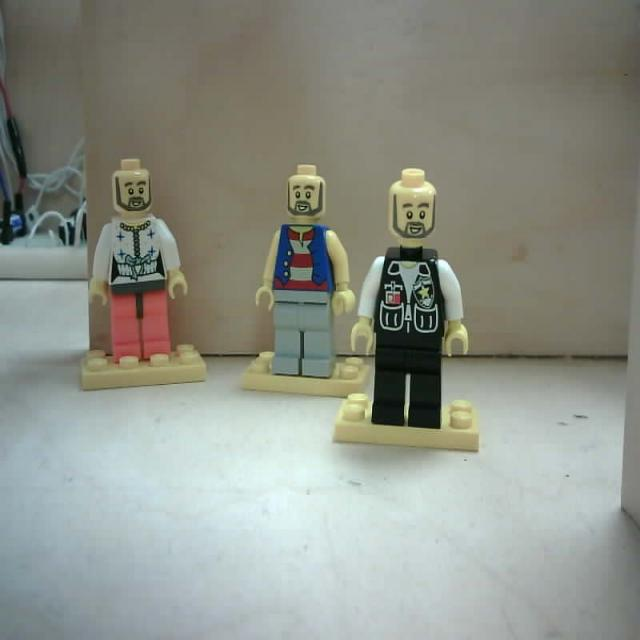Lego-People: (331, 170, 483, 458), (244, 161, 374, 402), (78, 160, 206, 400)
